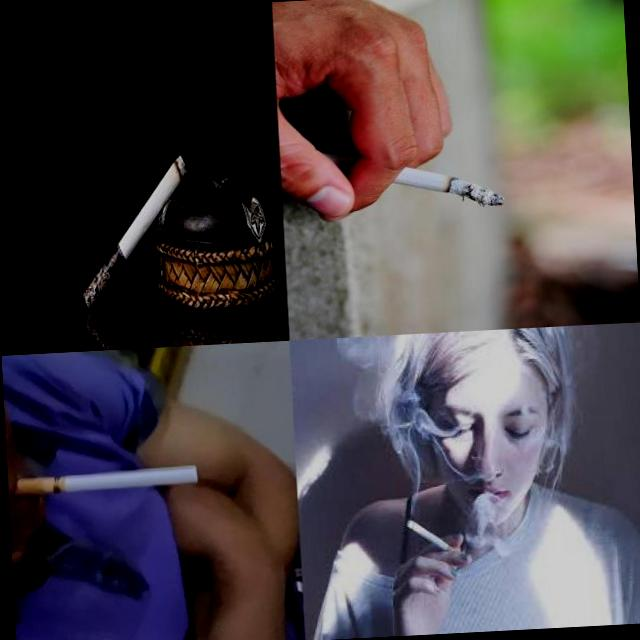smoke: (75, 152, 193, 311), (314, 142, 502, 216), (13, 465, 198, 499), (405, 518, 464, 561)
